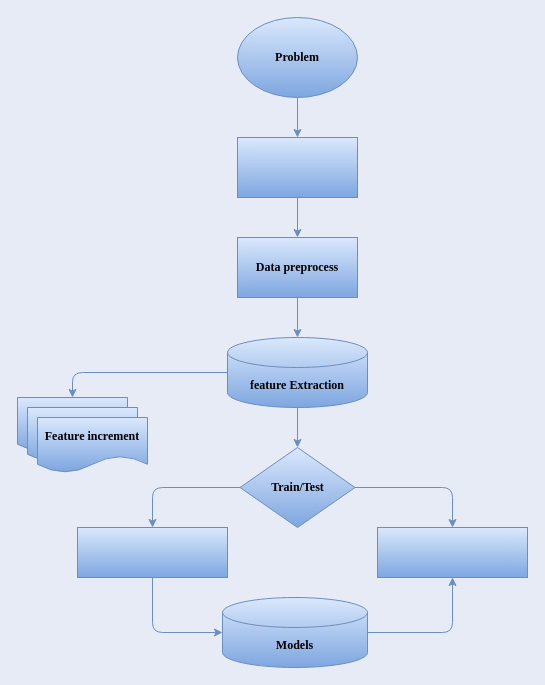
The diagram is 545 pixels wide and 685 high, and some of its shapes have lost their labels. The centre of each missing label's shape, as x and y in pixels:
"classification" goes at point (452, 552).
"Identification of required data" goes at point (297, 167).
"Training" goes at point (152, 552).
